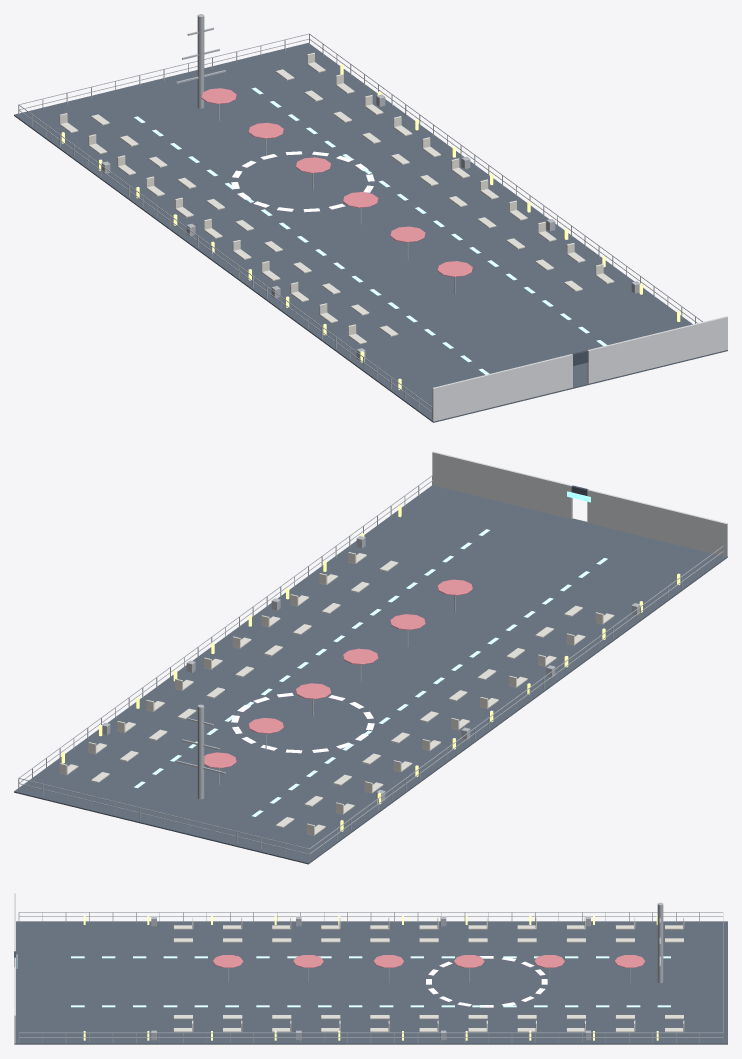
Rendered from sun-deck.glb.
3 views of the same model, one above another, from view 1: azimuth 30°, elevation 25°; view 2: azimuth 150°, elevation 25°; view 3: azimuth 270°, elevation 25° (orthographic). The views are drawn at different scales.
Visible parts, largest first — view 1: CM_DECK, CM_BULKHEAD, CM_CANVAS, CM_STEEL, CM_CORAL, CM_NEON_CYAN, CM_NEON_PINK, CM_NEON_AMBER; view 2: CM_DECK, CM_BULKHEAD, CM_STEEL, CM_CANVAS, CM_CORAL, CM_NEON_CYAN, CM_NEON_PINK, CM_NEON_AMBER; view 3: CM_DECK, CM_STEEL, CM_CANVAS, CM_CORAL, CM_NEON_CYAN, CM_NEON_PINK, CM_NEON_AMBER, CM_BULKHEAD.
Boxes of the visible parts, x1=… form: CM_DECK: x1=14, y1=43, x2=727, y2=422; CM_BULKHEAD: x1=432, y1=316, x2=727, y2=421; CM_CANVAS: x1=59, y1=53, x2=614, y2=344; CM_STEEL: x1=18, y1=14, x2=702, y2=418; CM_CORAL: x1=201, y1=88, x2=472, y2=277; CM_NEON_CYAN: x1=134, y1=87, x2=607, y2=374; CM_NEON_PINK: x1=231, y1=151, x2=374, y2=212; CM_NEON_AMBER: x1=61, y1=64, x2=680, y2=389; CM_DECK: x1=14, y1=485, x2=727, y2=864; CM_BULKHEAD: x1=432, y1=451, x2=727, y2=556; CM_STEEL: x1=18, y1=475, x2=723, y2=860; CM_CANVAS: x1=59, y1=552, x2=614, y2=835; CM_CORAL: x1=204, y1=579, x2=472, y2=768; CM_NEON_CYAN: x1=134, y1=491, x2=607, y2=816; CM_NEON_PINK: x1=231, y1=693, x2=374, y2=753; CM_NEON_AMBER: x1=61, y1=505, x2=680, y2=831; CM_DECK: x1=14, y1=921, x2=727, y2=1044; CM_STEEL: x1=18, y1=902, x2=723, y2=1042; CM_CANVAS: x1=173, y1=917, x2=684, y2=1032; CM_CORAL: x1=212, y1=955, x2=645, y2=967; CM_NEON_CYAN: x1=16, y1=954, x2=670, y2=1007; CM_NEON_PINK: x1=426, y1=956, x2=547, y2=1007; CM_NEON_AMBER: x1=83, y1=915, x2=658, y2=1040; CM_BULKHEAD: x1=14, y1=893, x2=15, y2=1043.
Bounding box in the file's own units: 30 × 9.12 × 74.02.
